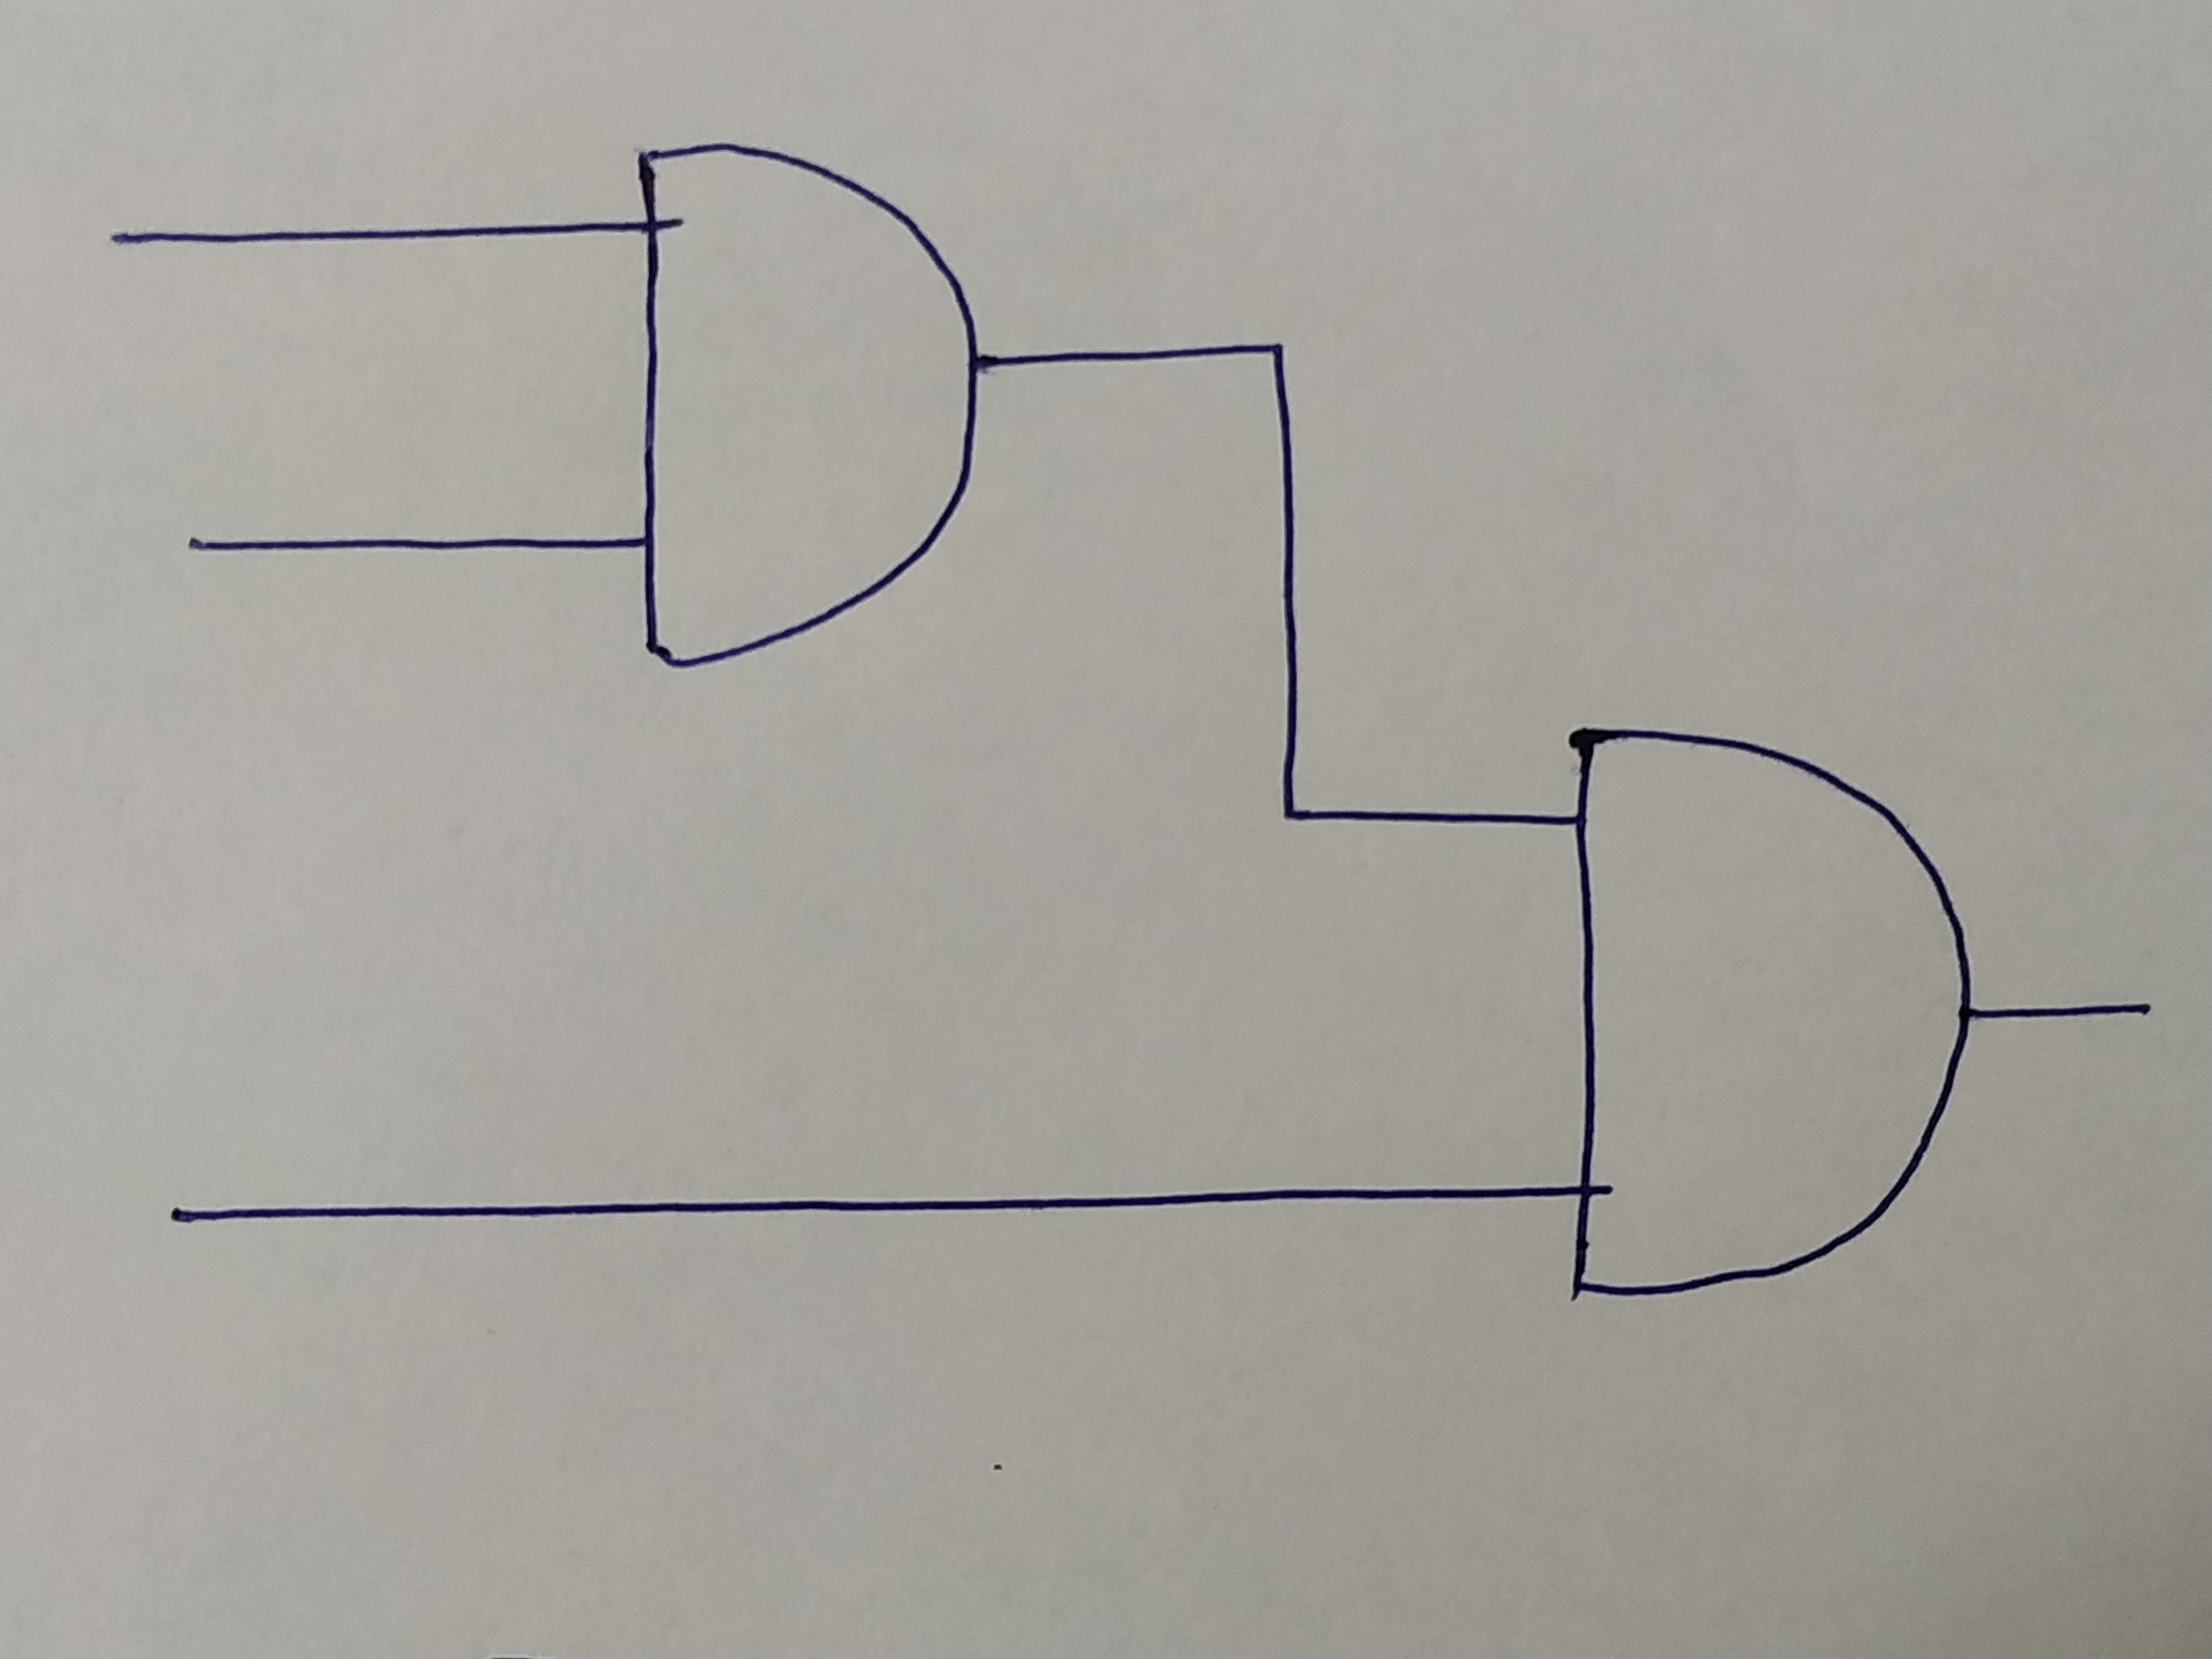and: (1569, 732, 1961, 1290), (637, 143, 977, 671)
